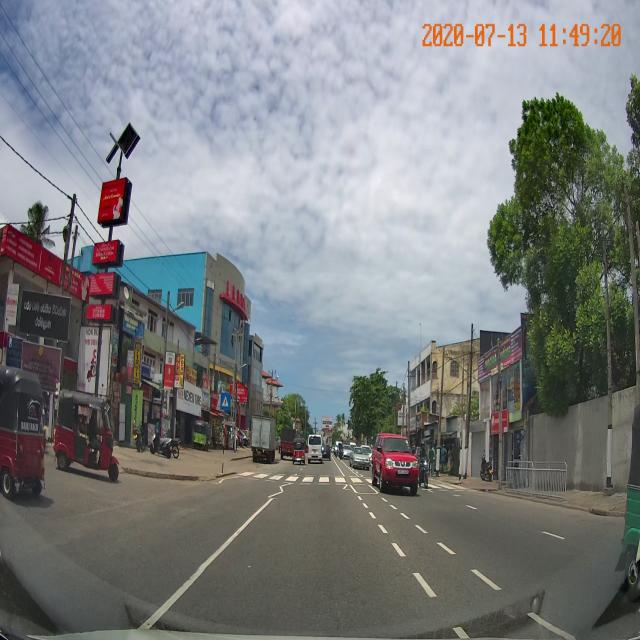Crosswalk: (232, 469, 373, 486)
